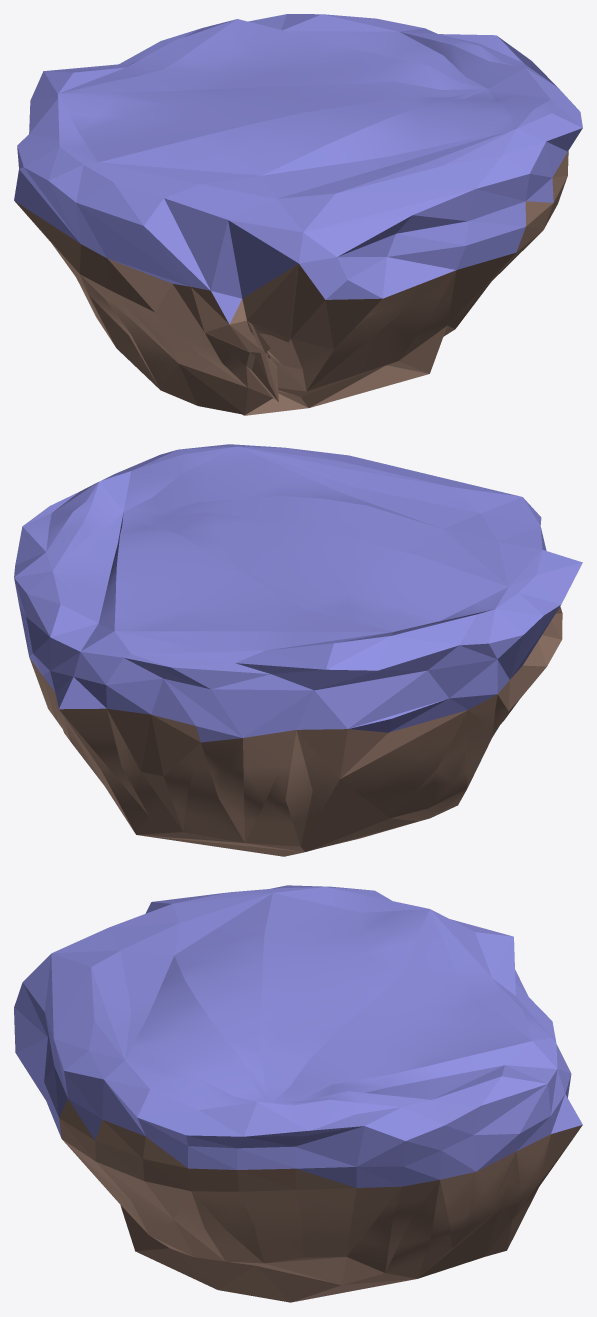
File: grasss.fbx
The picture shows the model from 3 angles, top to bottom: view 1: azimuth 30°, elevation 25°; view 2: azimuth 150°, elevation 25°; view 3: azimuth 270°, elevation 25°; orthographic projection.
Visible parts, largest first — view 1: polySurface1; view 2: polySurface1; view 3: polySurface1.
Part boxes in pixels (left/top/right/bottom): polySurface1: left=14, top=14, right=582, bottom=415; polySurface1: left=14, top=444, right=582, bottom=856; polySurface1: left=14, top=885, right=582, bottom=1302.
Size of the model in its own units: 14.91 by 8 by 14.77.
